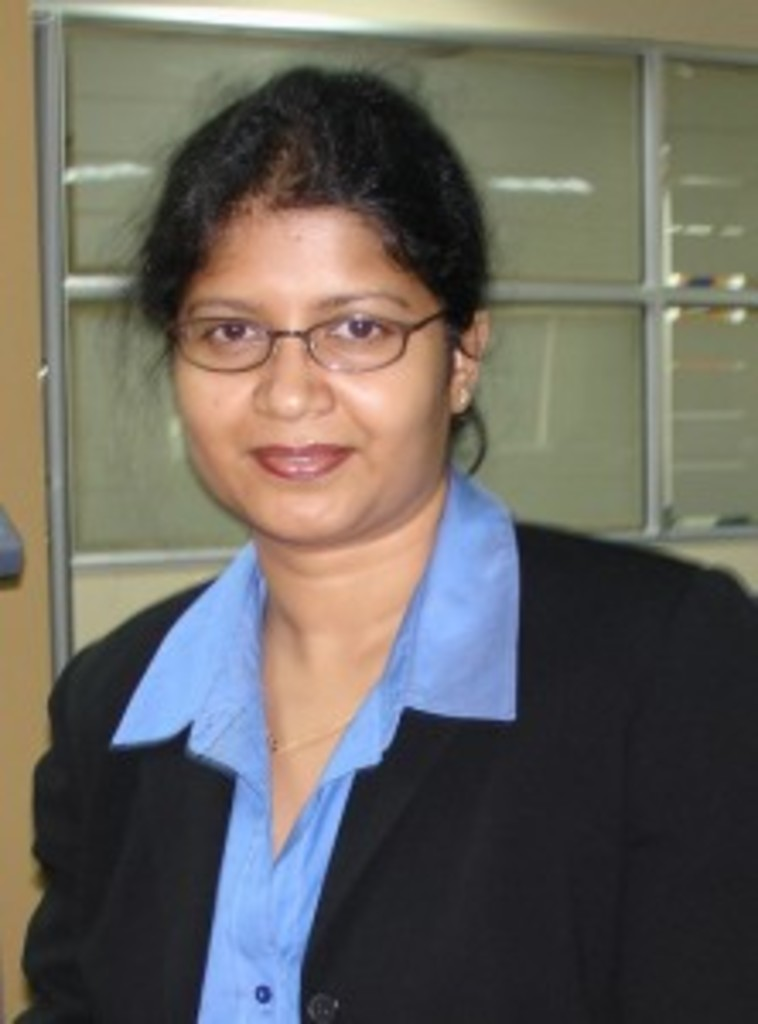Person: (9, 44, 758, 1023)
